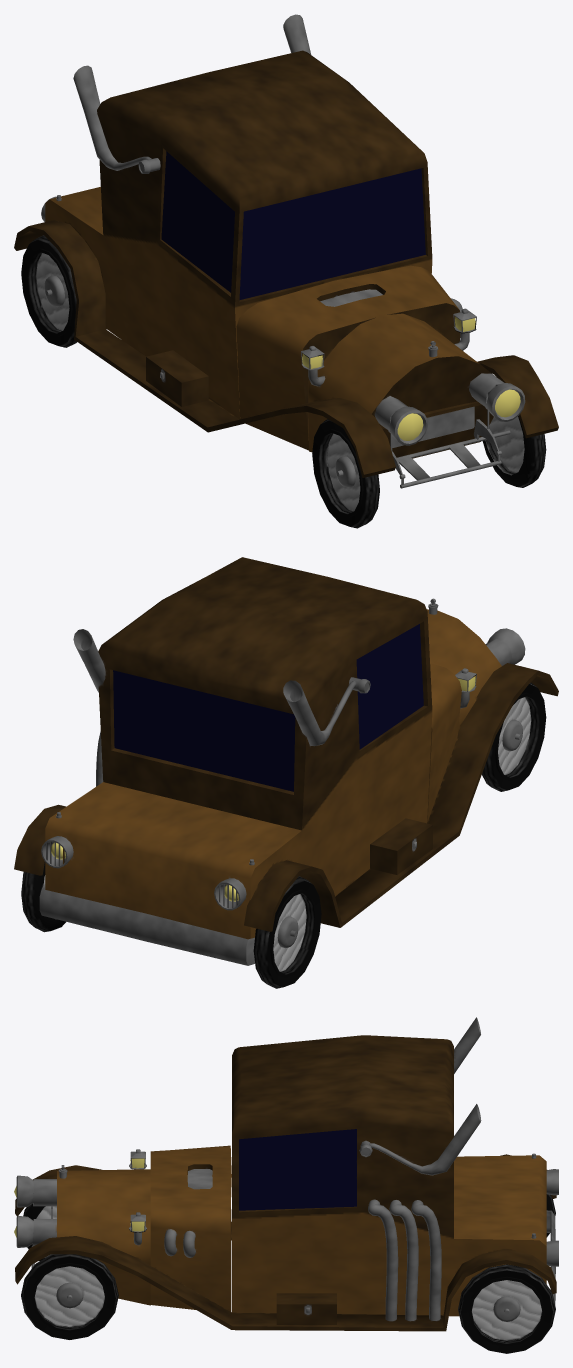
File: OldCar.fbx
3 renders of one model, top to bottom at view 1: azimuth 30°, elevation 25°; view 2: azimuth 150°, elevation 25°; view 3: azimuth 270°, elevation 25°, orthographic. The views are drawn at different scales.
Parts seen in each view (by area): view 1: CarOld; view 2: CarOld; view 3: CarOld.
Boxes of the visible parts, x1,y1,x2,y2 form: CarOld: [14, 14, 558, 528]; CarOld: [14, 557, 558, 988]; CarOld: [14, 1017, 558, 1353].
Size of the model in its own units: 495 by 512 by 1034.
Materials: 1 (1 with a texture image).
